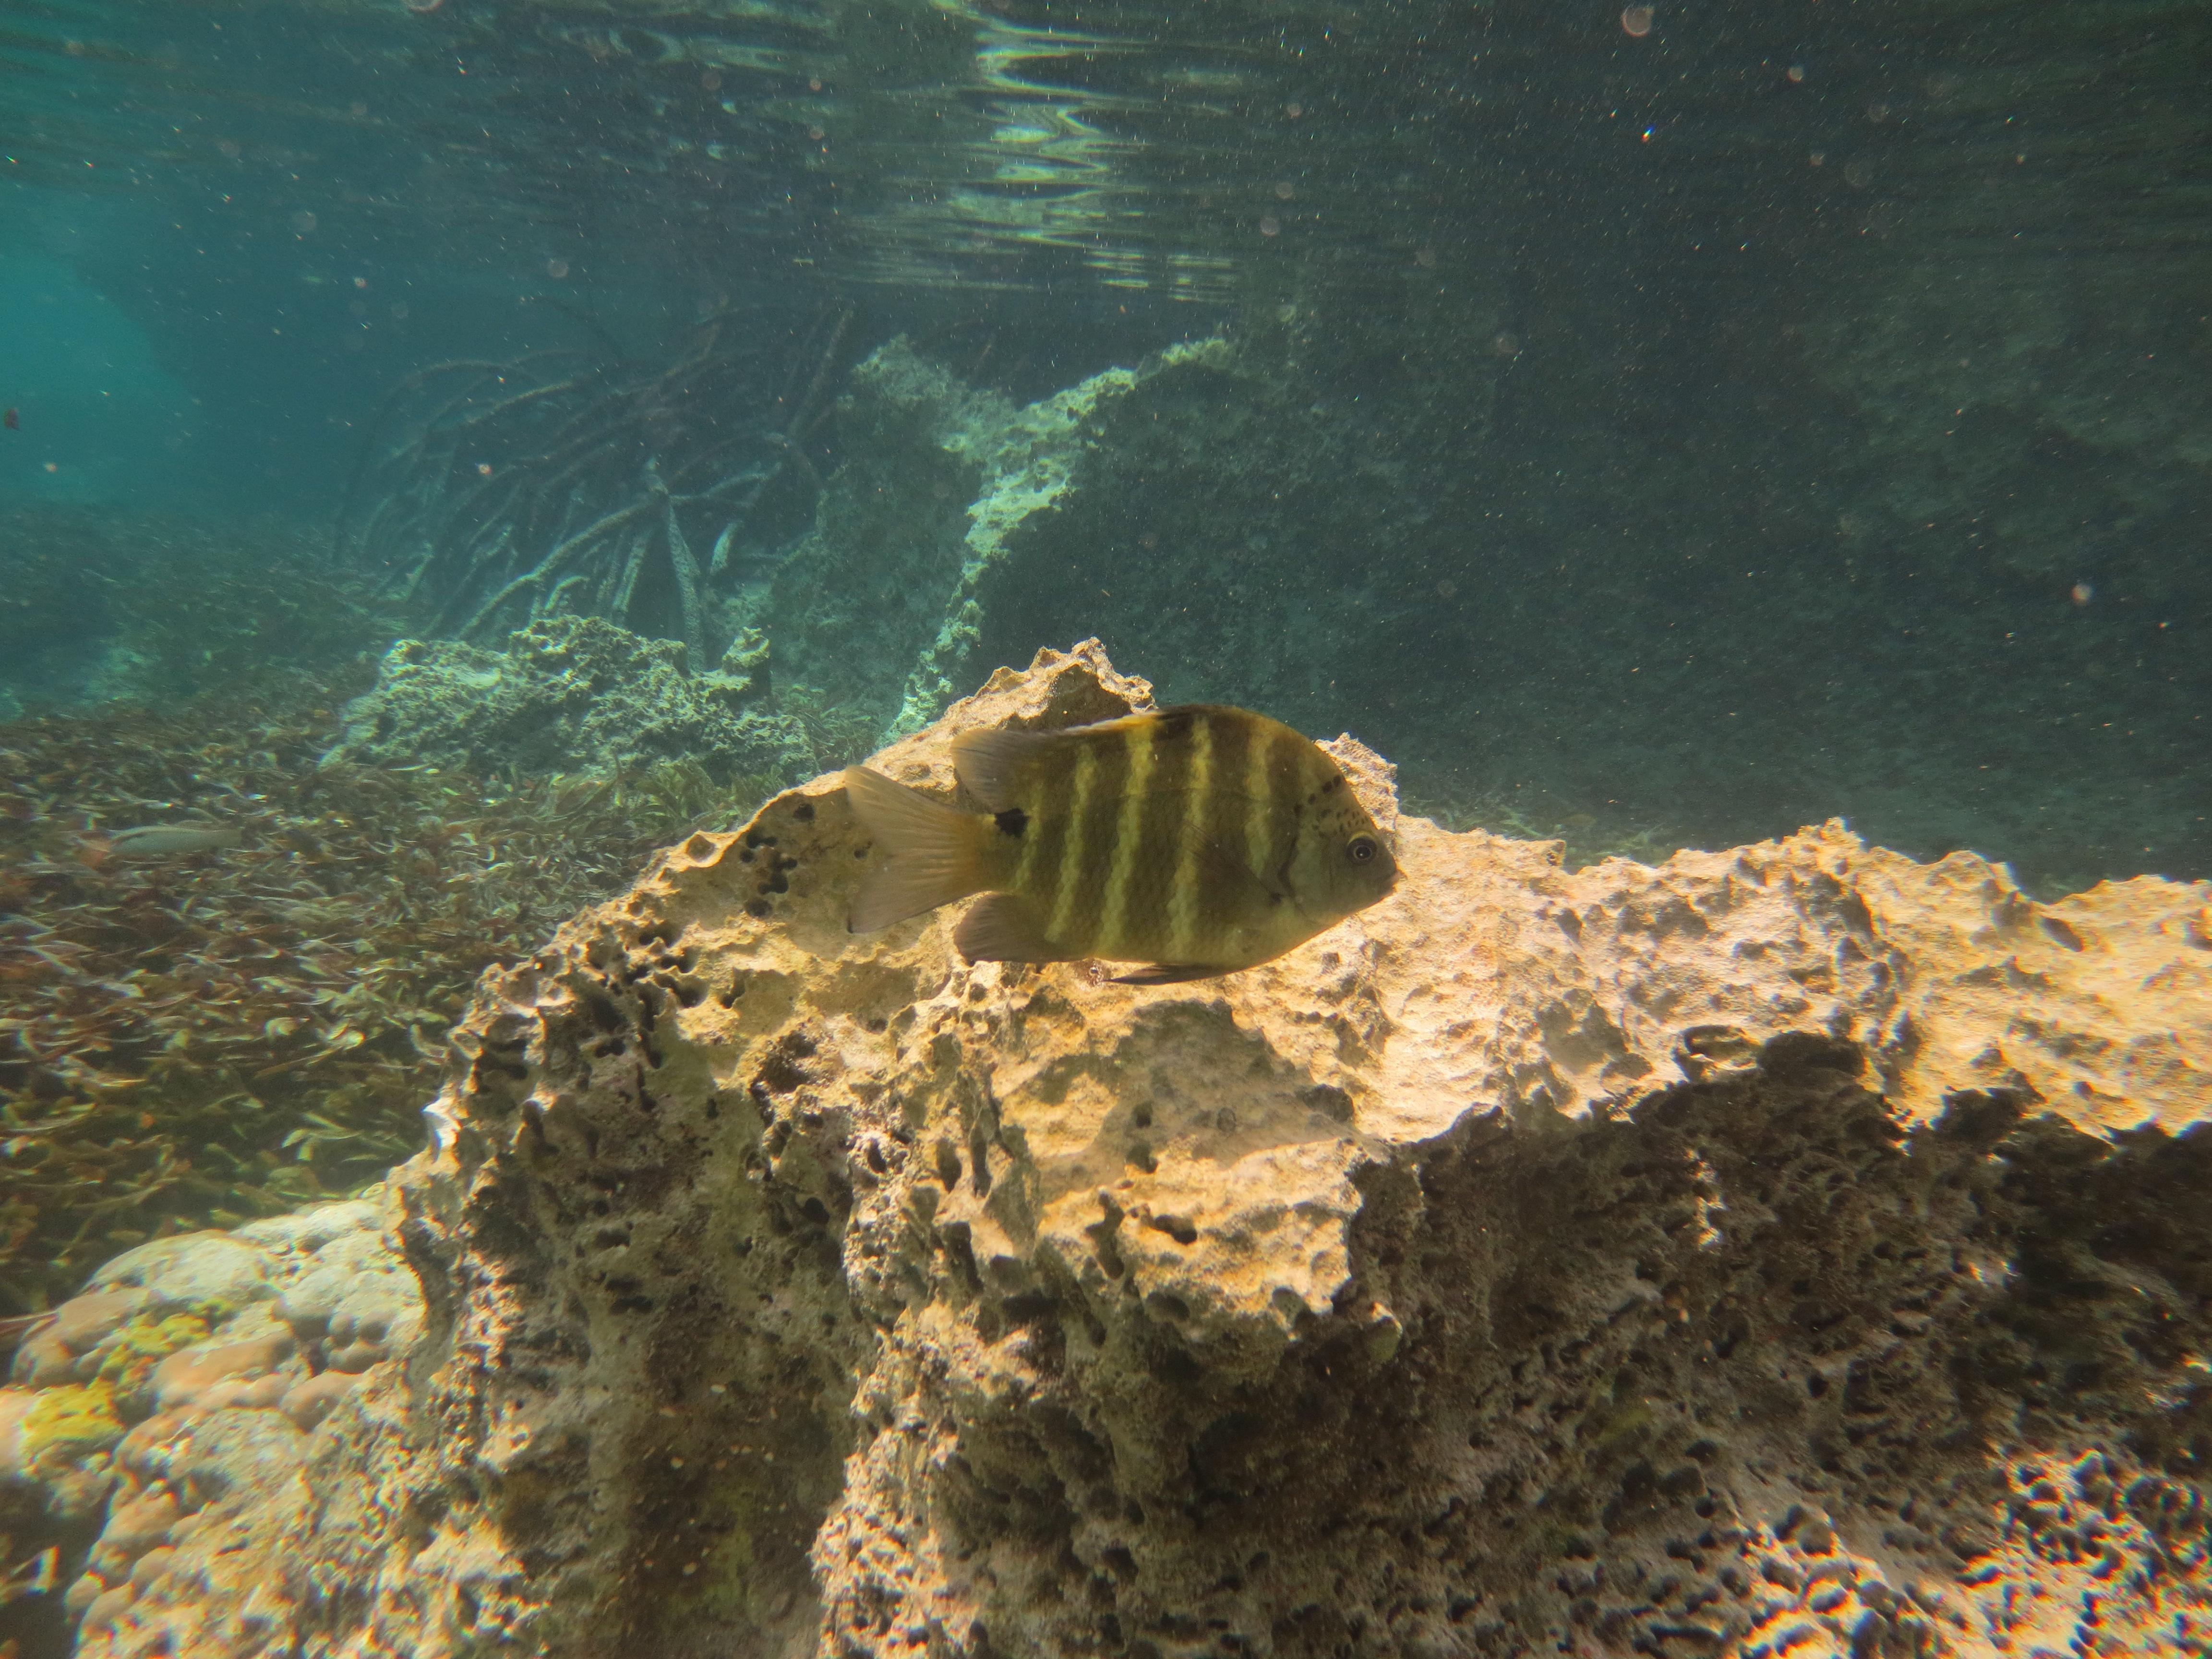Fish: (827, 643, 1507, 1028)
